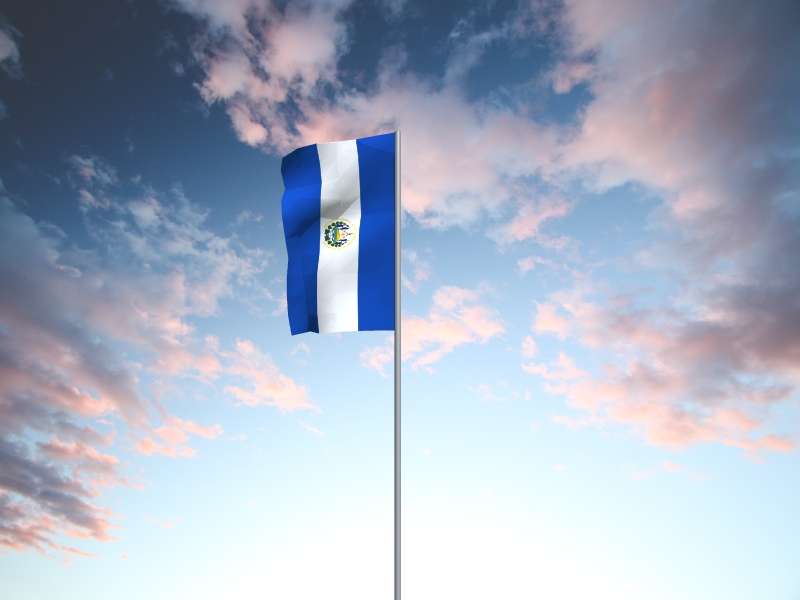sv: (280, 133, 395, 337)
